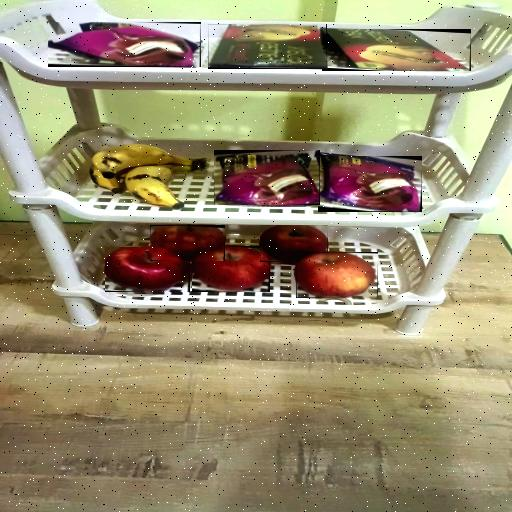Apple: (105, 248, 190, 294), (296, 252, 378, 298), (192, 246, 270, 292), (150, 225, 225, 261), (260, 226, 328, 264)
Choco Fills: (322, 29, 471, 71), (208, 24, 327, 69)
Choco Pie: (48, 22, 201, 67), (214, 150, 320, 205), (318, 156, 422, 212)
